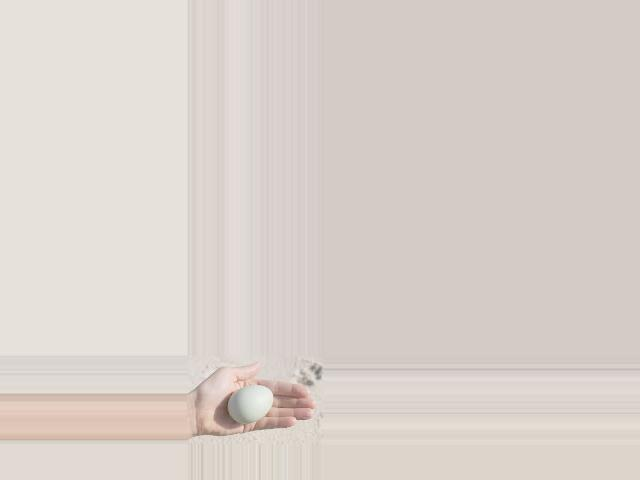egg: (229, 385, 274, 423)
